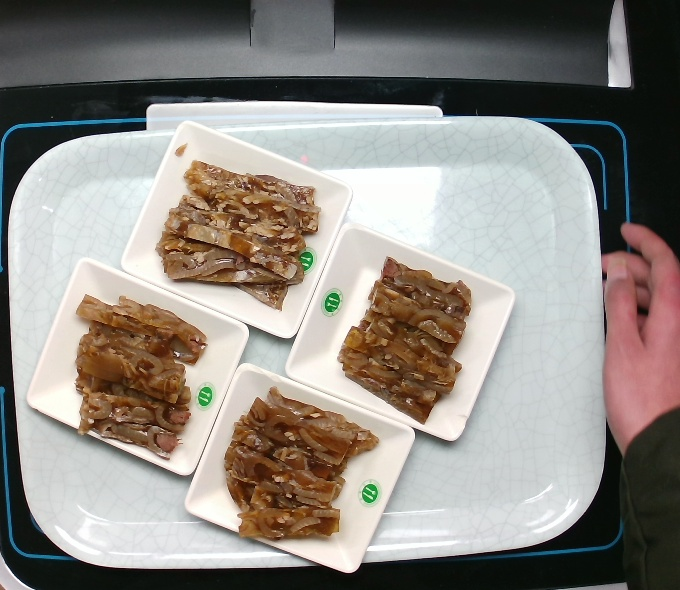wcq-DongZhuPi: (154, 154, 324, 314), (225, 379, 378, 548), (71, 284, 205, 470), (342, 252, 474, 430)
